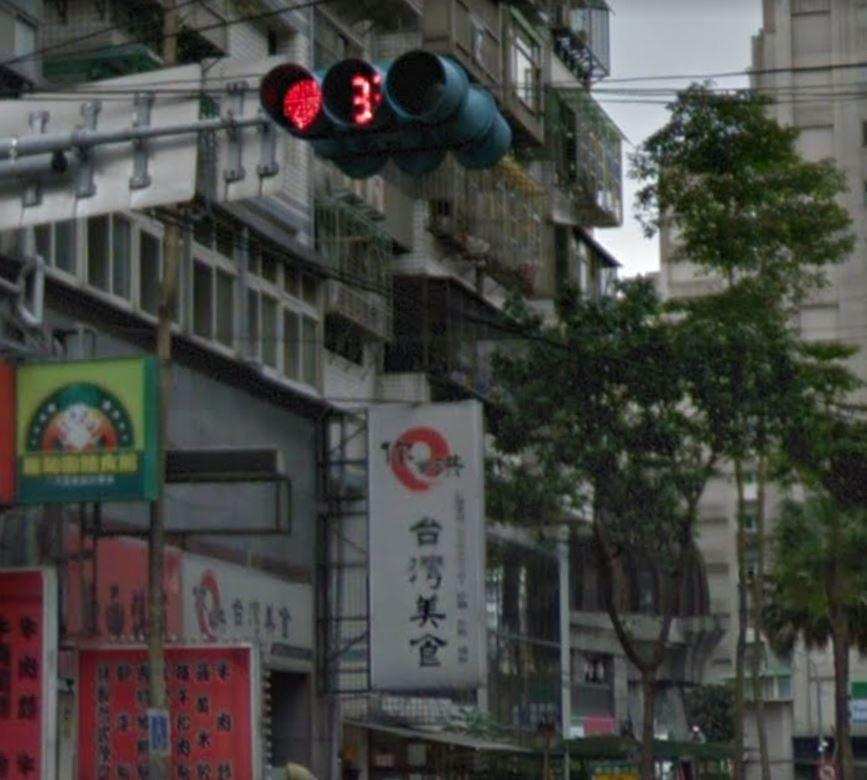red_traffic_light: (252, 45, 487, 137)
